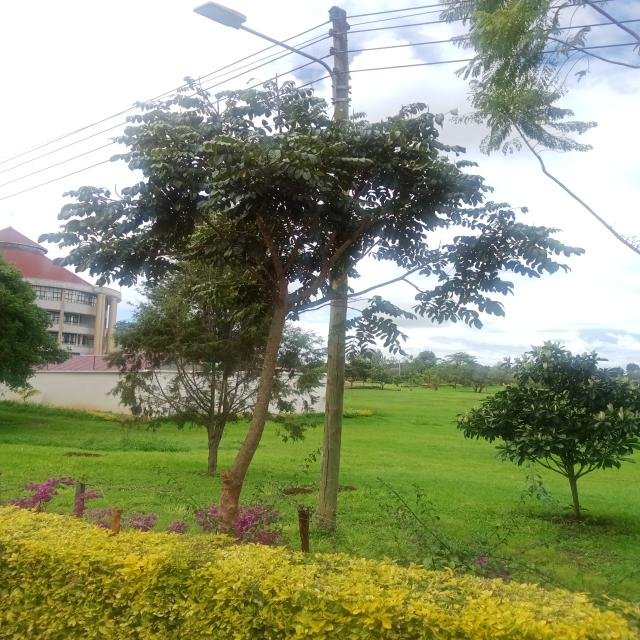Polyscias Kikuyensis: (68, 35, 510, 482)
Prunus Africana: (452, 341, 640, 515)
